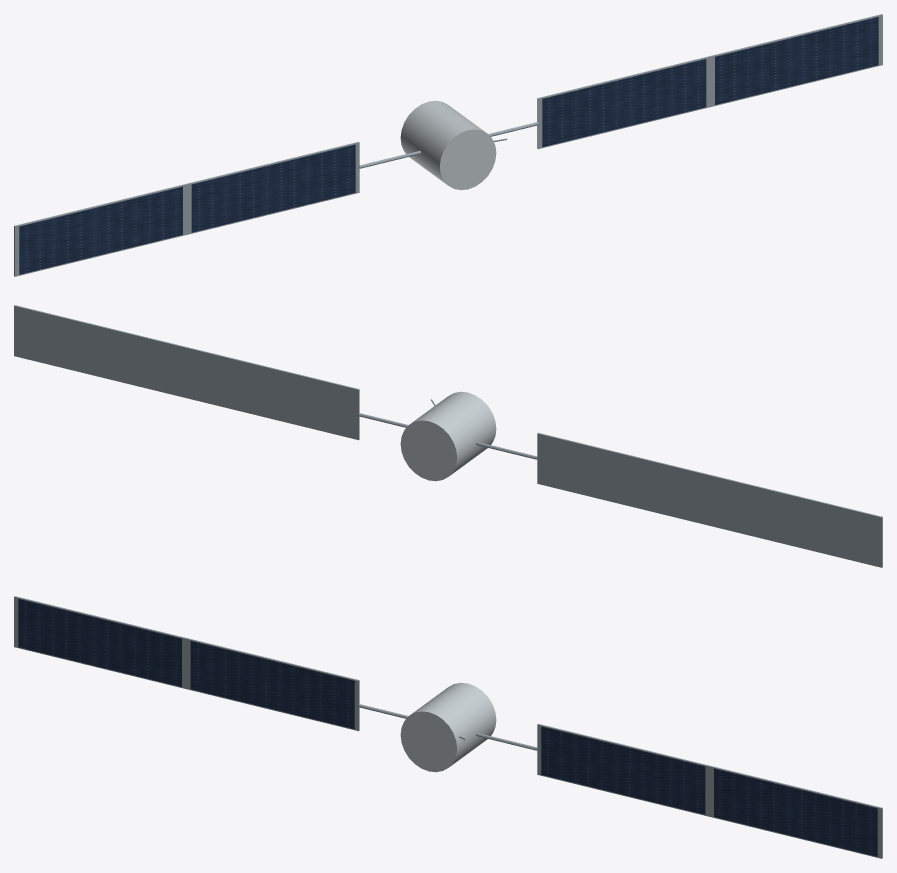
File: ref-auos-8903.glb
3 renders of one model, top to bottom at view 1: azimuth 30°, elevation 25°; view 2: azimuth 150°, elevation 25°; view 3: azimuth 330°, elevation 25°, orthographic.
Parts seen in each view (by area): view 1: Photovoltaic laminates (×4), Spacecraft body, Array frame (×4); view 2: Array frame (×4), Spacecraft body; view 3: Photovoltaic laminates (×4), Spacecraft body, Array frame (×4).
Boxes of the visible parts, box(x1,y1,x2,y2) form: Photovoltaic laminates (×4): box(19, 17, 878, 274); Spacecraft body: box(400, 100, 496, 190); Array frame (×4): box(14, 14, 882, 276); Array frame (×4): box(14, 305, 882, 567); Spacecraft body: box(400, 391, 496, 481); Photovoltaic laminates (×4): box(18, 599, 877, 856); Spacecraft body: box(400, 682, 496, 772); Array frame (×4): box(14, 596, 882, 858).
Size of the model in its own units: 23 by 1.5 by 1.87.
Materials: 3 (1 with a texture image).
